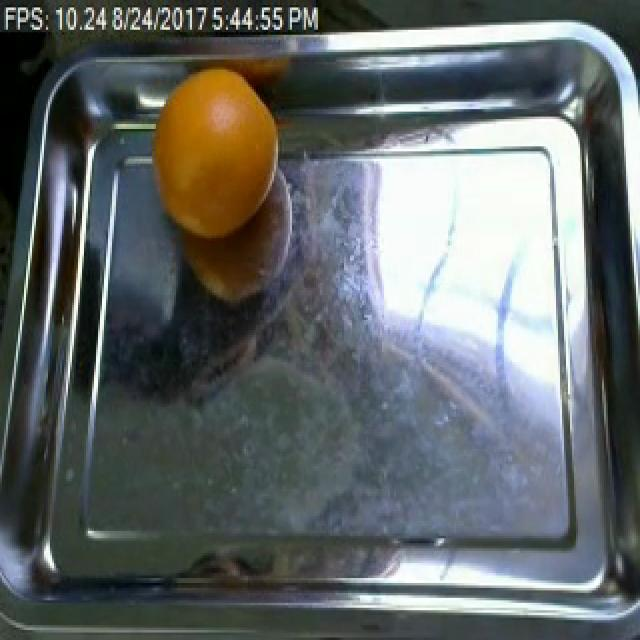Fruit: (146, 59, 286, 240)
